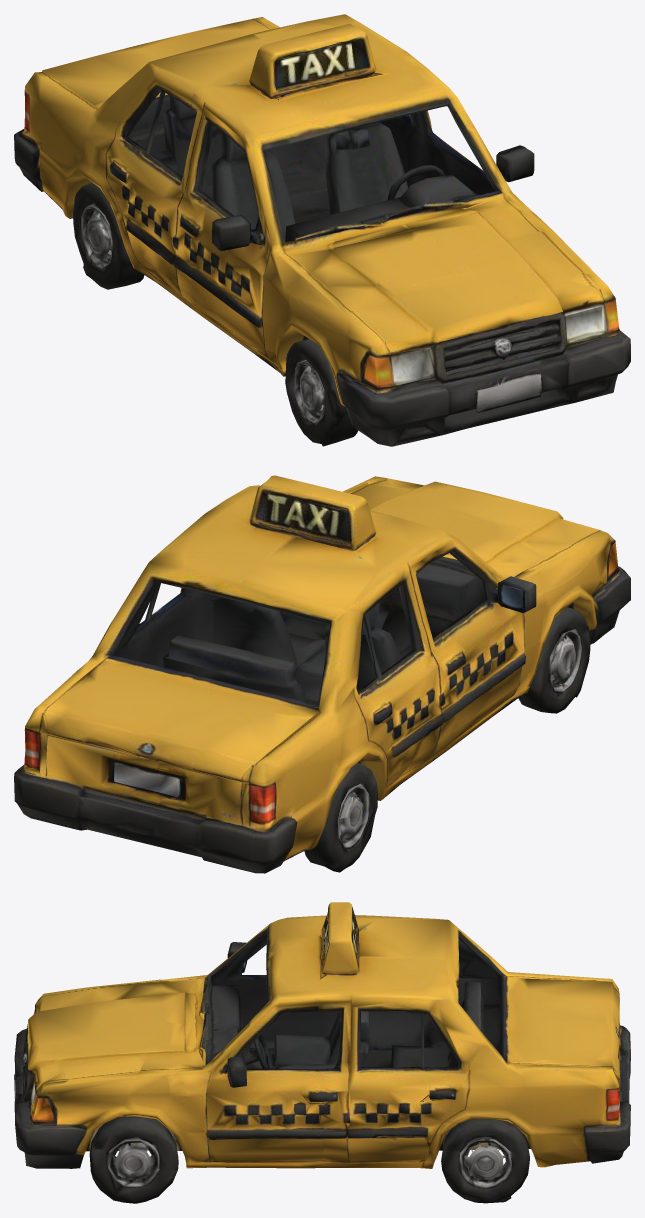
The model's file is veh-taxi.glb.
3 renders of one model, top to bottom at view 1: azimuth 30°, elevation 25°; view 2: azimuth 150°, elevation 25°; view 3: azimuth 270°, elevation 25°, orthographic. The views are drawn at different scales.
Visible parts, largest first — view 1: tripo_node_92283ac5-c3b7-49eb-9099-c54c20f9b6db; view 2: tripo_node_92283ac5-c3b7-49eb-9099-c54c20f9b6db; view 3: tripo_node_92283ac5-c3b7-49eb-9099-c54c20f9b6db.
Part boxes in pixels (<box>): tripo_node_92283ac5-c3b7-49eb-9099-c54c20f9b6db: <box>14,14,630,446</box>; tripo_node_92283ac5-c3b7-49eb-9099-c54c20f9b6db: <box>14,475,630,873</box>; tripo_node_92283ac5-c3b7-49eb-9099-c54c20f9b6db: <box>14,902,630,1203</box>.
Size of the model in its own units: 0.4795 by 0.4089 by 0.9797.
Materials: 1 (1 with a texture image).
